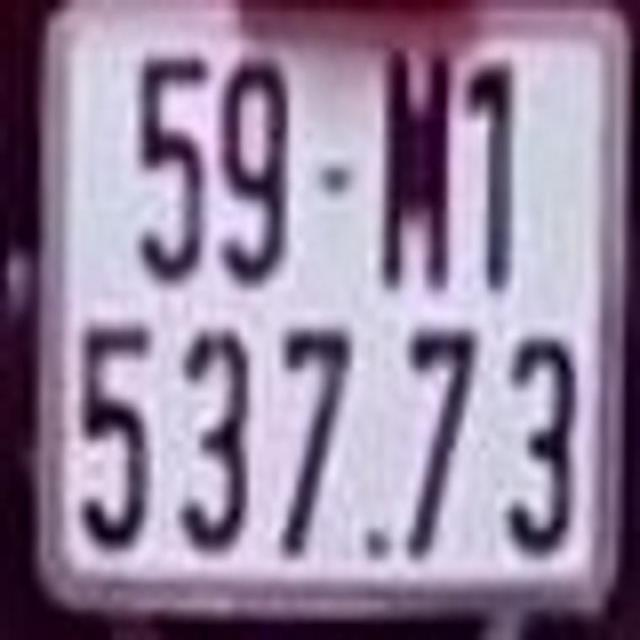1: (467, 58, 522, 292)
3: (498, 333, 577, 558), (180, 324, 250, 550)
5: (132, 53, 206, 274), (80, 324, 150, 543)
7: (403, 318, 481, 566), (274, 320, 348, 558)
9: (214, 52, 288, 282)
M: (379, 46, 453, 292)
